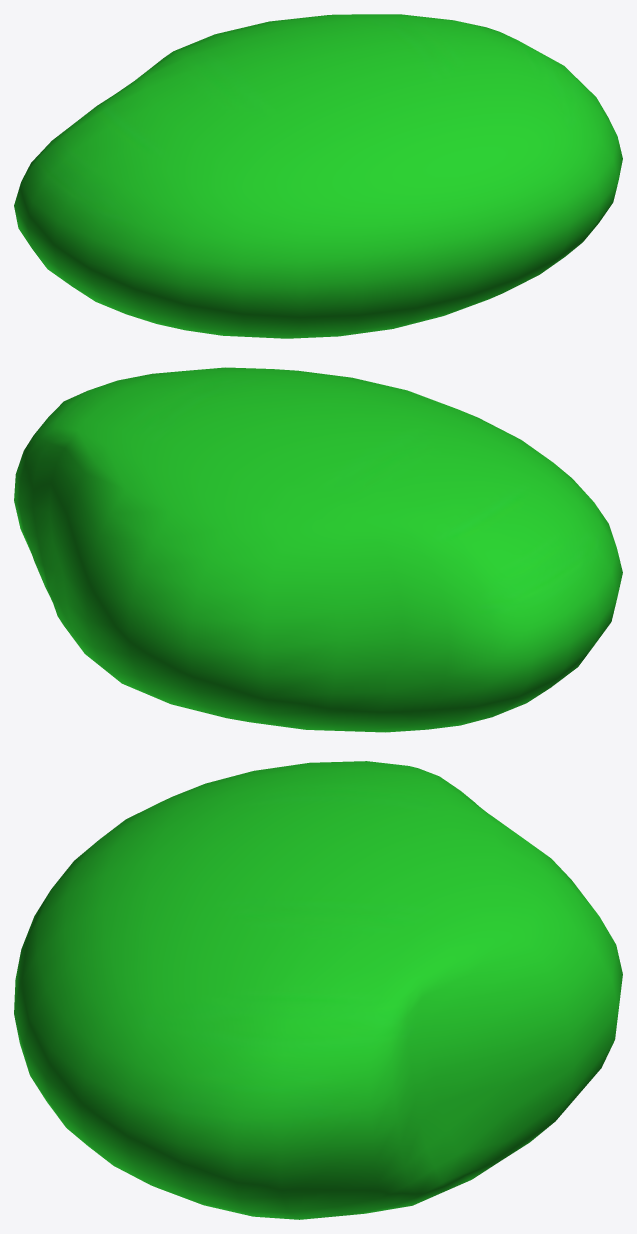
The model's file is candy1.fbx.
3 renders of one model, top to bottom at view 1: azimuth 30°, elevation 25°; view 2: azimuth 150°, elevation 25°; view 3: azimuth 270°, elevation 25°, orthographic. The views are drawn at different scales.
Parts seen in each view (by area): view 1: pCube26; view 2: pCube26; view 3: pCube26.
Part boxes in pixels (bbox=[...]): pCube26: bbox=[14, 14, 622, 338]; pCube26: bbox=[14, 367, 622, 732]; pCube26: bbox=[14, 761, 622, 1219].
Bounding box in the file's own units: 1.78 × 0.7614 × 1.4.
